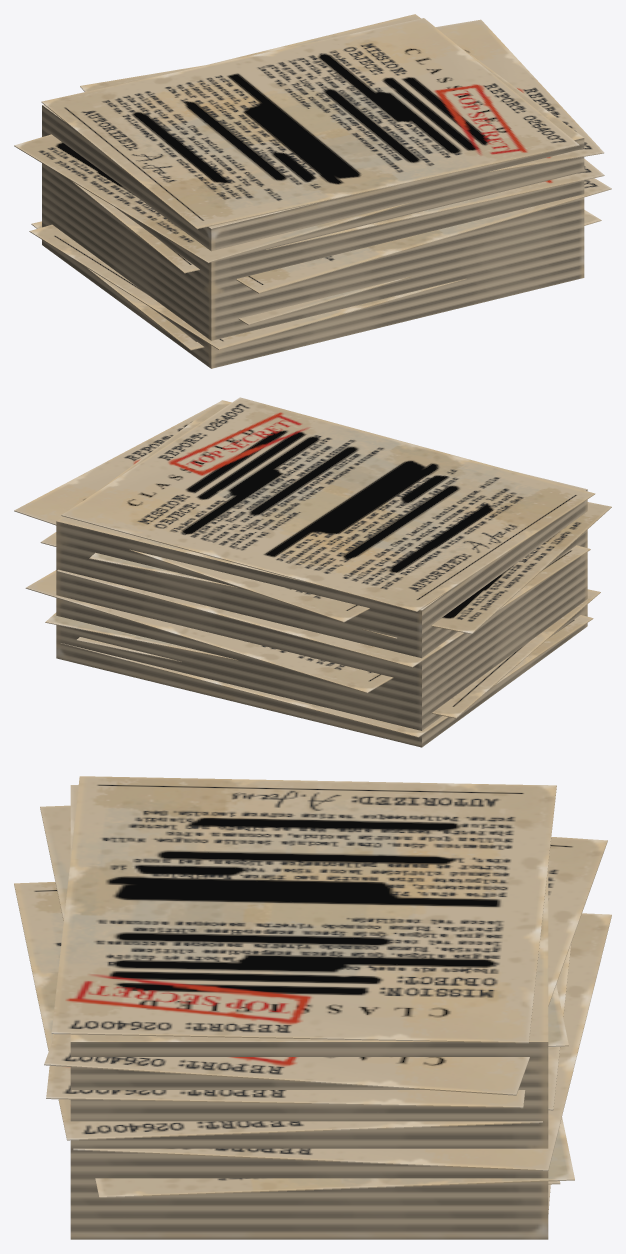
Rendered from paper01_D.fbx.
3 renders of one model, top to bottom at view 1: azimuth 30°, elevation 25°; view 2: azimuth 150°, elevation 25°; view 3: azimuth 270°, elevation 25°, orthographic. The views are drawn at different scales.
Visible parts, largest first — view 1: paper01_D; view 2: paper01_D; view 3: paper01_D.
Part boxes in pixels (x1,y1,x2,y2): paper01_D: [14, 14, 611, 368]; paper01_D: [14, 397, 611, 747]; paper01_D: [14, 776, 611, 1239].
Size of the model in its own units: 34.94 by 10.05 by 27.41.
